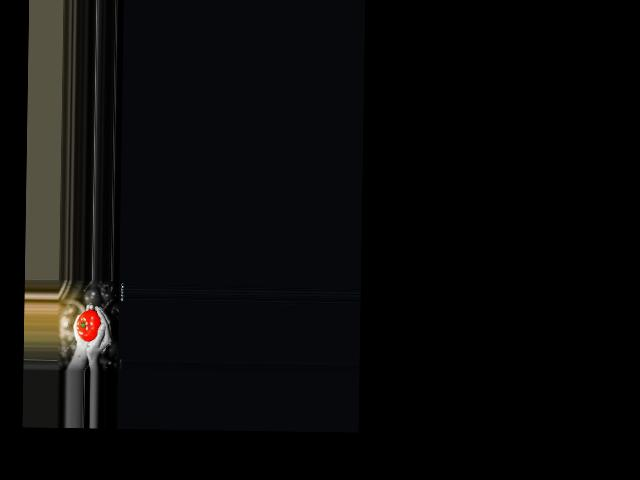tomato: (76, 310, 101, 342)
